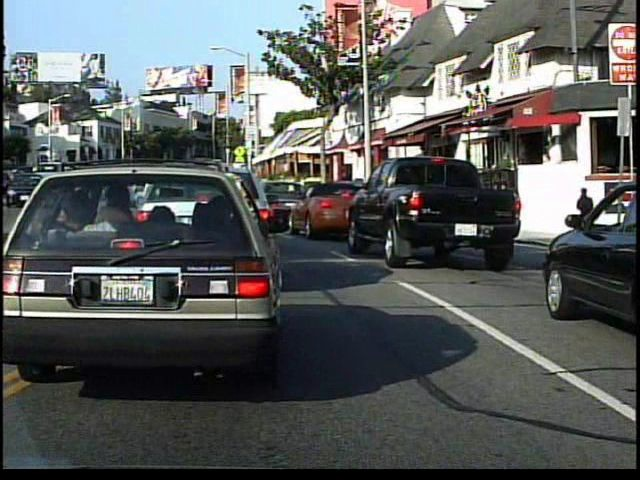person: (491, 149, 515, 201)
